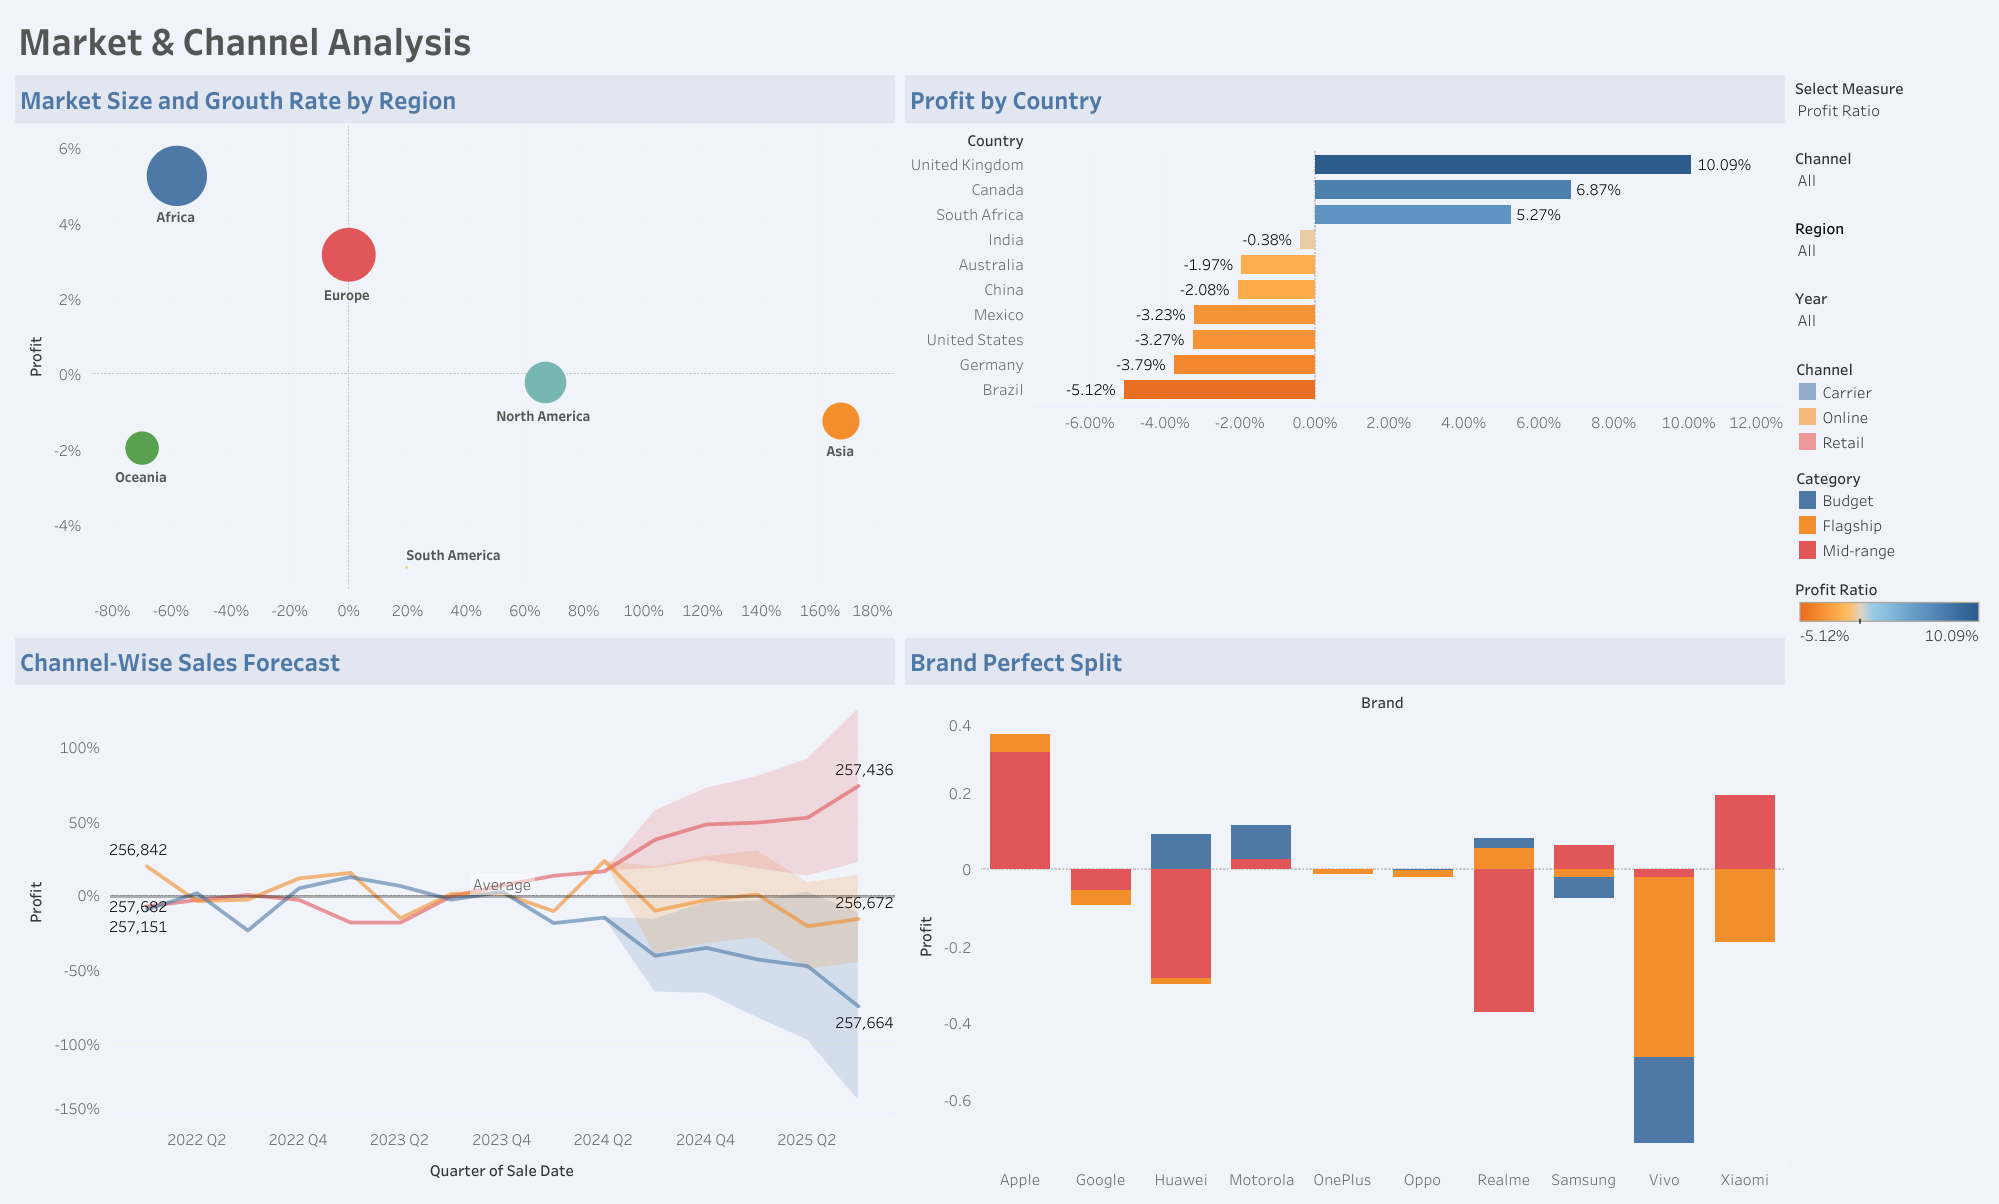

Layout of this report page (visuals, bound fields, positions):
{"tool":"tableau","page":{"name":"2. Market and channel","canvas":[1000,1000],"units":"permille","ordinal":2},"visuals":[{"type":"title","box":[4.8,10,990.3,72.4]},{"type":"worksheet","title":"Market size / Growth","mark":"Automatic","rows":["Calculation_1894045127470383104"],"box":[4.8,82.4,446.7,453.7]},{"type":"worksheet","title":"Profit by Country","mark":"Automatic","rows":["Country"],"cols":["Calculation_1894045127470383104"],"box":[451.5,82.4,447.1,453.7]},{"type":"parameter","param":"[Parameters].[Parameter 7]","box":[898.6,82.4,96.6,69.9]},{"type":"filter","title":"Ch.-Wise Sales For.","param":"[federated.133nf490kqtoen14o6drk1ew0xuc].[none:Channel:nk]","box":[898.6,152.3,96.6,76.2]},{"type":"filter","title":"Market size / Growth","param":"[federated.133nf490kqtoen14o6drk1ew0xuc].[none:Region:nk]","box":[898.6,228.5,96.6,76.2]},{"type":"filter","title":"Ch.-Wise Sales For.","param":"[federated.133nf490kqtoen14o6drk1ew0xuc].[yr:SaleDate:ok]","box":[898.6,304.6,96.6,76.2]},{"type":"legend","title":"Ch.-Wise Sales For.","param":"[federated.133nf490kqtoen14o6drk1ew0xuc].[none:Channel:nk]","box":[898.6,380.8,96.6,116.1]},{"type":"legend","title":"Brand Perf. Split","param":"[federated.133nf490kqtoen14o6drk1ew0xuc].[none:Category:nk]","box":[898.6,496.9,96.6,116.1]},{"type":"worksheet","title":"Ch.-Wise Sales For.","mark":"Line","rows":["Calculation_1894045127470383104"],"cols":["SaleDate"],"box":[4.8,536.1,446.6,453.9]},{"type":"worksheet","title":"Brand Perf. Split","mark":"Automatic","rows":["Calculation_1894045127470383104"],"cols":["Brand"],"box":[451.4,536.1,447.2,453.9]},{"type":"legend","title":"Profit by Country","param":"[federated.133nf490kqtoen14o6drk1ew0xuc].[usr:Calculation_1894045127470383104:qk","box":[898.6,613,96.6,91.1]}]}

Visuals, with their boxes on the dashboard's canvas, which has no fixed pixel size, in thousandths of its width and height (x1, y1, x2, y2). These are canvas units, not pixel positions in the 1999x1204 screenshot, which may show the page scaled, cropped or inside an application window:
title: left=5, top=10, right=995, bottom=82
"Market size / Growth" worksheet: left=5, top=82, right=452, bottom=536
"Profit by Country" worksheet: left=452, top=82, right=899, bottom=536
parameter: left=899, top=82, right=995, bottom=152
"Ch.-Wise Sales For." filter: left=899, top=152, right=995, bottom=228
"Market size / Growth" filter: left=899, top=228, right=995, bottom=305
"Ch.-Wise Sales For." filter: left=899, top=305, right=995, bottom=381
"Ch.-Wise Sales For." legend: left=899, top=381, right=995, bottom=497
"Brand Perf. Split" legend: left=899, top=497, right=995, bottom=613
"Ch.-Wise Sales For." worksheet (Line marks): left=5, top=536, right=451, bottom=990
"Brand Perf. Split" worksheet: left=451, top=536, right=899, bottom=990
"Profit by Country" legend: left=899, top=613, right=995, bottom=704
